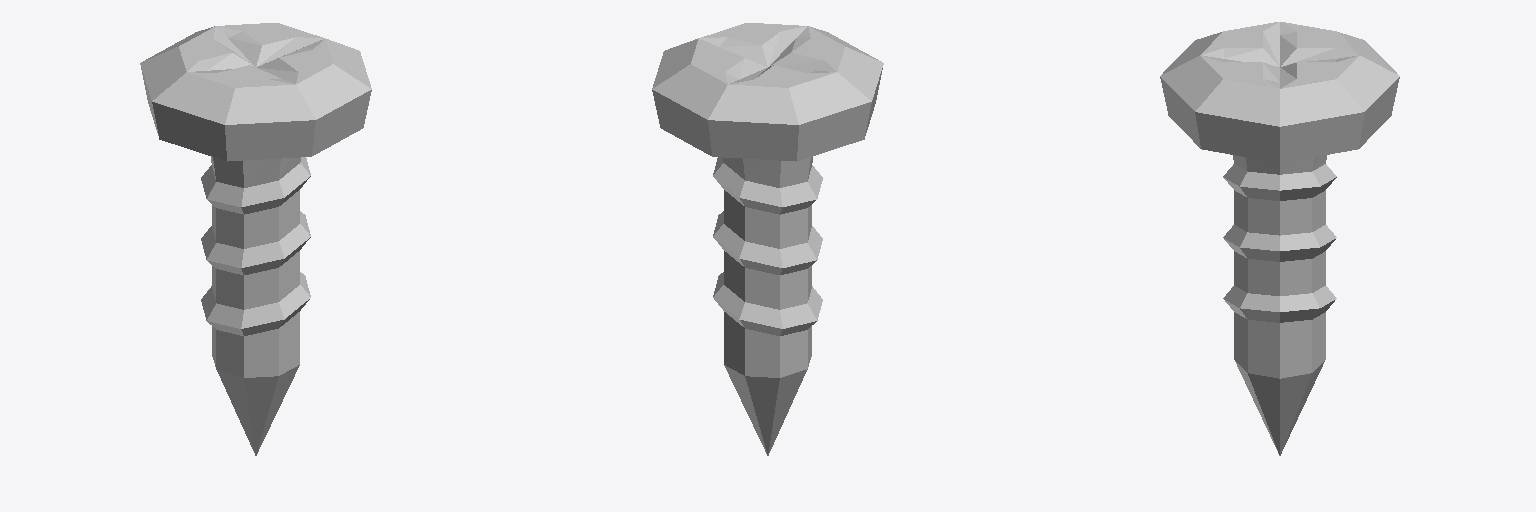
Rendered from screw_B.obj.
3 views of the same model, side by side, from view 1: azimuth 30°, elevation 25°; view 2: azimuth 150°, elevation 25°; view 3: azimuth 270°, elevation 25° (orthographic).
Visible parts, largest first — view 1: screw_B; view 2: screw_B; view 3: screw_B.
Part boxes in pixels (x1,y1,x2,y2): screw_B: (140,23,371,455); screw_B: (652,23,883,455); screw_B: (1160,22,1399,455).
Size of the model in its own units: 0.1589 by 0.2931 by 0.1589.